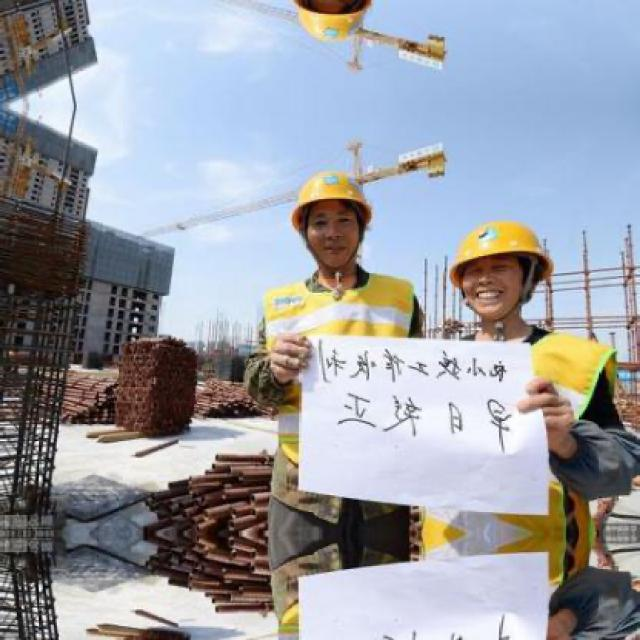helmet: (448, 216, 560, 324), (291, 170, 378, 279), (291, 0, 380, 45)
